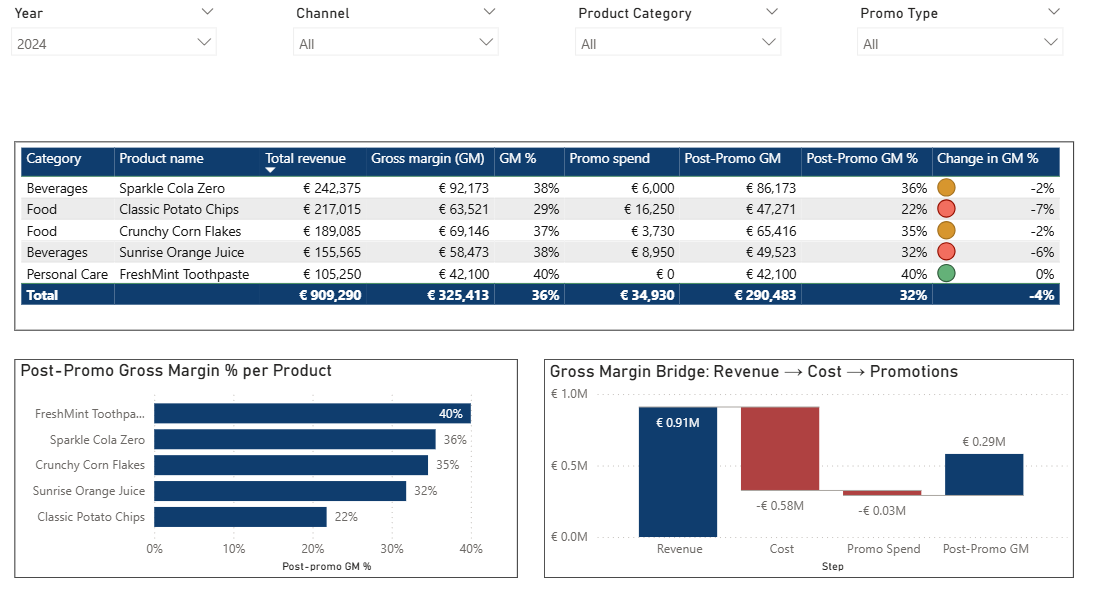

The dashboard page shown, as its layout file describes it:
{"tool":"powerbi","page":{"name":"Margin & Promotional Impact","canvas":[1280,720],"ordinal":1},"visuals":[{"type":"slicer","fields":{"Values":["dim_date.year"]},"box":[97.2,0,221.5,70.1],"z":0},{"type":"slicer","fields":{"Values":["dim_channel.channel"]},"box":[373.4,0,221.5,70.1],"z":1000},{"type":"slicer","fields":{"Values":["dim_product.category"]},"box":[649.7,0,222,69.5],"z":2000},{"type":"tableEx","fields":{"Values":["dim_product.category","dim_product.product_name","fact_sales.Total revenue","fact_sales.Gross margin","fact_sales.Gross margin %","Sum(fact_promotions.promo_spend)","fact_promotions.Gross margin after promo","fact_promotions.Gross margin after promo %","fact_promotions.GM % variance"]},"box":[109.8,139.7,1038.7,185.5],"z":3000},{"type":"slicer","fields":{"Values":["fact_promotions.promo_mechanic"]},"box":[926.5,0,222.1,69.1],"z":4000},{"type":"clusteredBarChart","title":"Post-Promo Gross Margin % per Product","fields":{"Category":["dim_product.product_name"],"Y":["fact_promotions.Gross margin after promo %"]},"box":[109.8,352.6,493.5,214.5],"z":5000},{"type":"waterfallChart","title":"Gross Margin Bridge: Revenue → Cost → Promotions","fields":{"Y":["Margin Bridge.Margin Bridge Value"],"Category":["Margin Bridge.Step"]},"box":[629.2,352.6,519.4,214.5],"z":7000}]}

Visuals, with their boxes on the page's 1280x720 design canvas (x1, y1, x2, y2). These are canvas units, not pixel positions in the 1113x607 screenshot, which may show the page scaled, cropped or inside an application window:
slicer - dim_date.year: 97 0 319 70
slicer - dim_channel.channel: 373 0 595 70
slicer - dim_product.category: 650 0 872 70
tableEx - dim_product.category x dim_product.product_name: 110 140 1148 325
slicer - fact_promotions.promo_mechanic: 926 0 1149 69
"Post-Promo Gross Margin % per Product" clusteredBarChart: 110 353 603 567
"Gross Margin Bridge: Revenue → Cost → Promotions" waterfallChart: 629 353 1149 567
